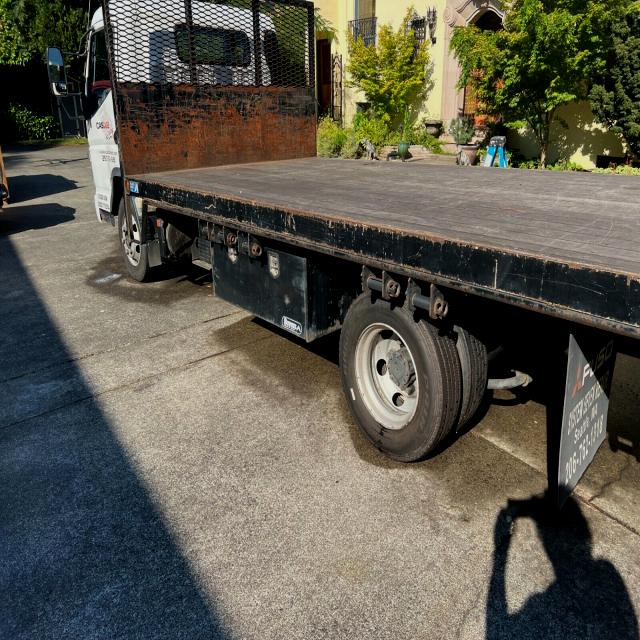truck: (46, 1, 640, 487)
